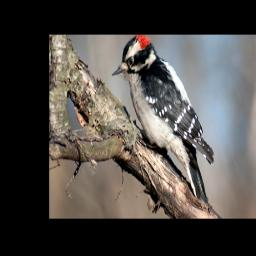Woodpecker: (108, 36, 215, 208)
